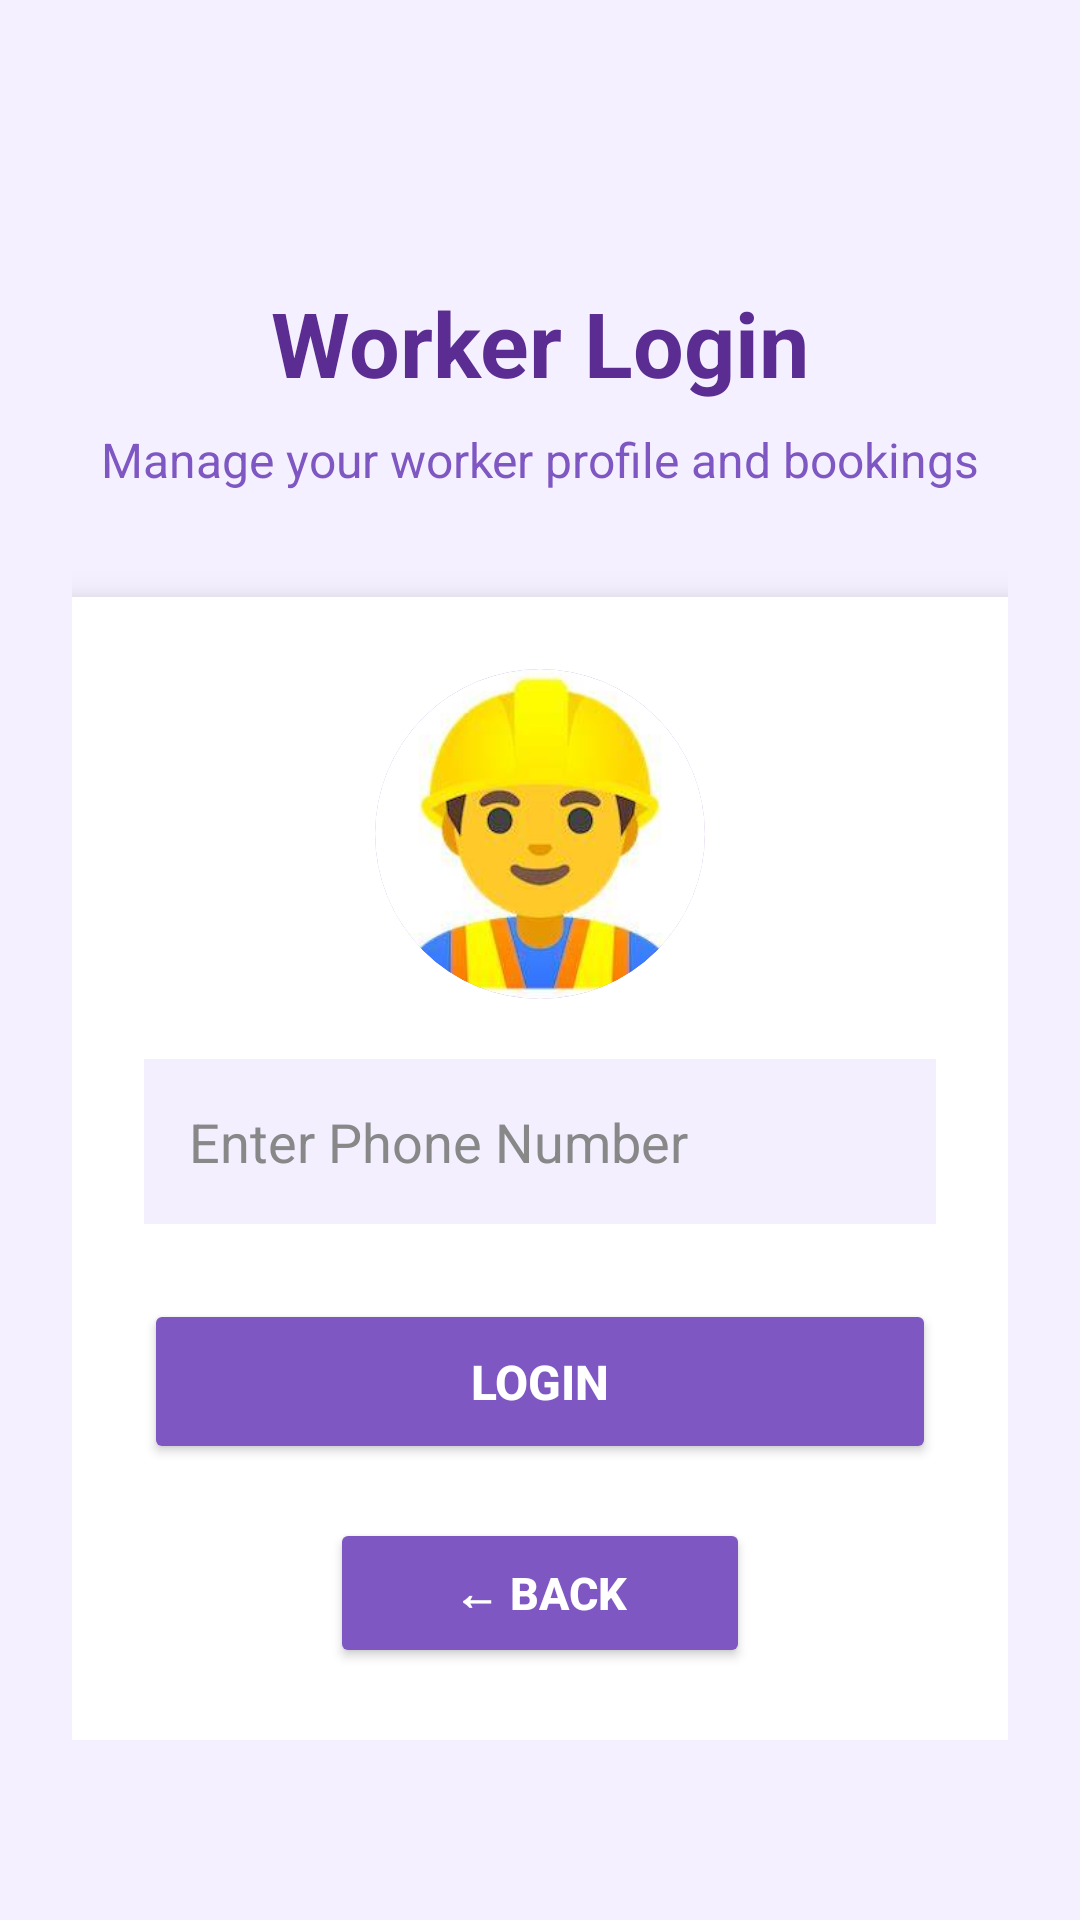

Icon bounding boxes for this 1080w x 1920h phone screenshot, format (x1,y1,x2,y2):
worker: (375,669,705,999)
